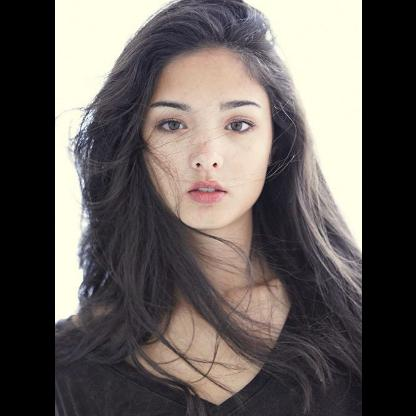Female: (143, 48, 273, 230)
